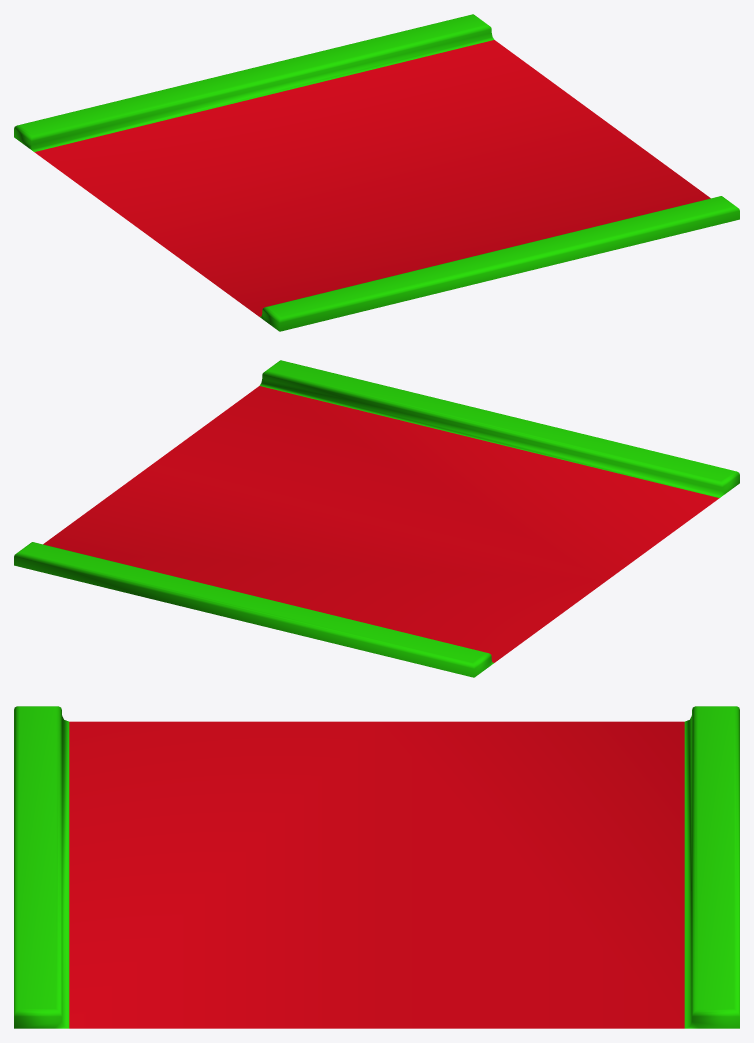
File: Road.fbx
The picture shows the model from 3 angles, top to bottom: view 1: azimuth 30°, elevation 25°; view 2: azimuth 150°, elevation 25°; view 3: azimuth 270°, elevation 25°; orthographic projection. The views are drawn at different scales.
Parts seen in each view (by area): view 1: Plane; view 2: Plane; view 3: Plane.
Boxes of the visible parts, x1,y1,x2,y2 form: Plane: (14,14,739,331); Plane: (14,360,739,677); Plane: (14,706,739,1028).
Size of the model in its own units: 200 by 5.24 by 200.
